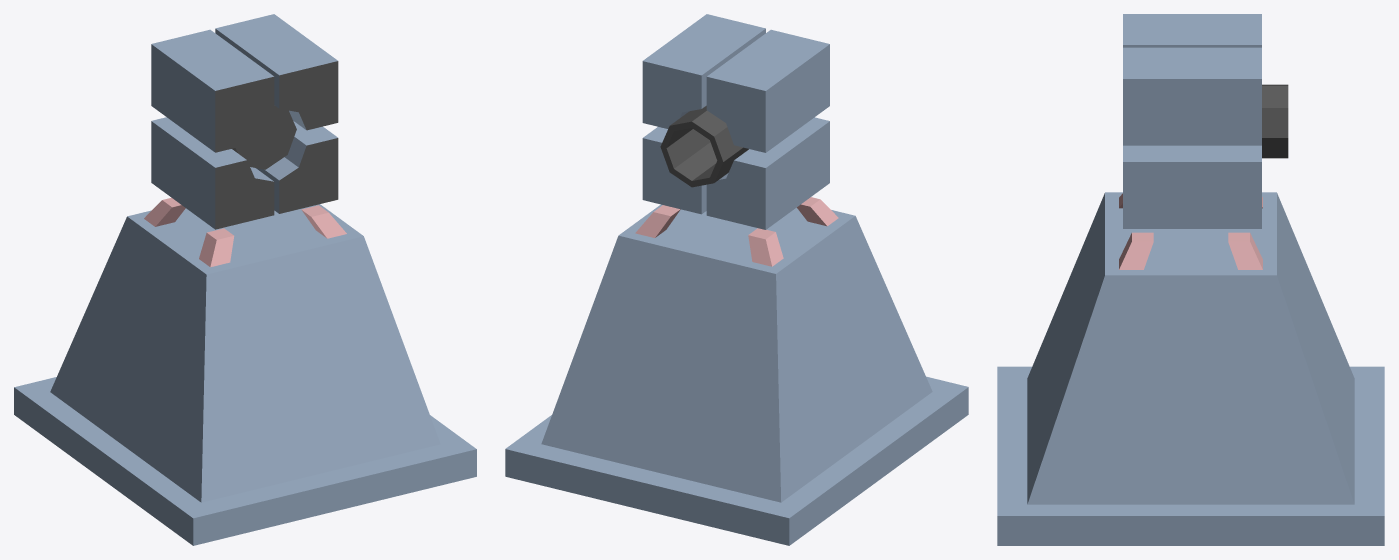
Rendered from TorresSlowAVC1.fbx.
3 renders of one model, left to right at view 1: azimuth 30°, elevation 25°; view 2: azimuth 150°, elevation 25°; view 3: azimuth 270°, elevation 25°, orthographic. The views are drawn at different scales.
Visible parts, largest first — view 1: Base, Torre; view 2: Base, Torre; view 3: Base, Torre.
Part boxes in pixels (left/top/right/bottom): Base: left=14, top=197, right=476, bottom=545; Torre: left=151, top=14, right=338, bottom=229; Base: left=505, top=197, right=968, bottom=545; Torre: left=642, top=14, right=829, bottom=229; Base: left=997, top=192, right=1384, bottom=545; Torre: left=1123, top=14, right=1288, bottom=228.
Bounding box in the file's own units: 421 × 558 × 461.
